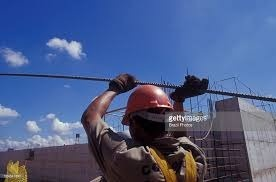helmet: (120, 83, 175, 124)
person with partial safety: (110, 80, 207, 179)
